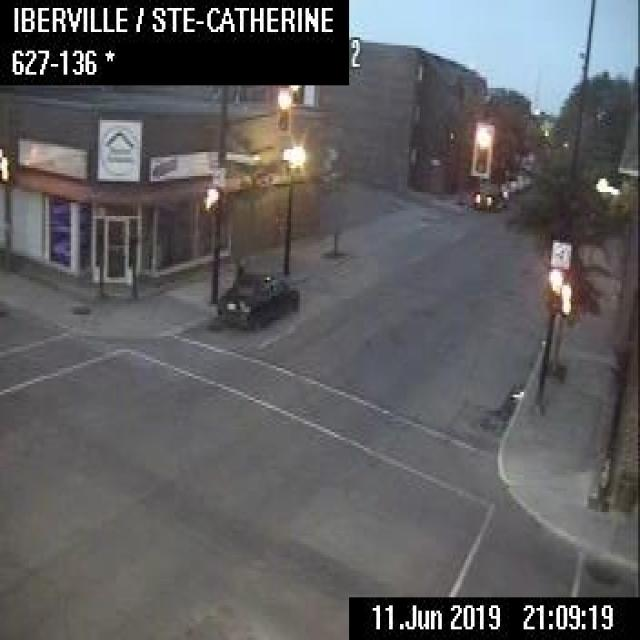vehicle: (215, 266, 299, 331), (472, 178, 502, 209)
